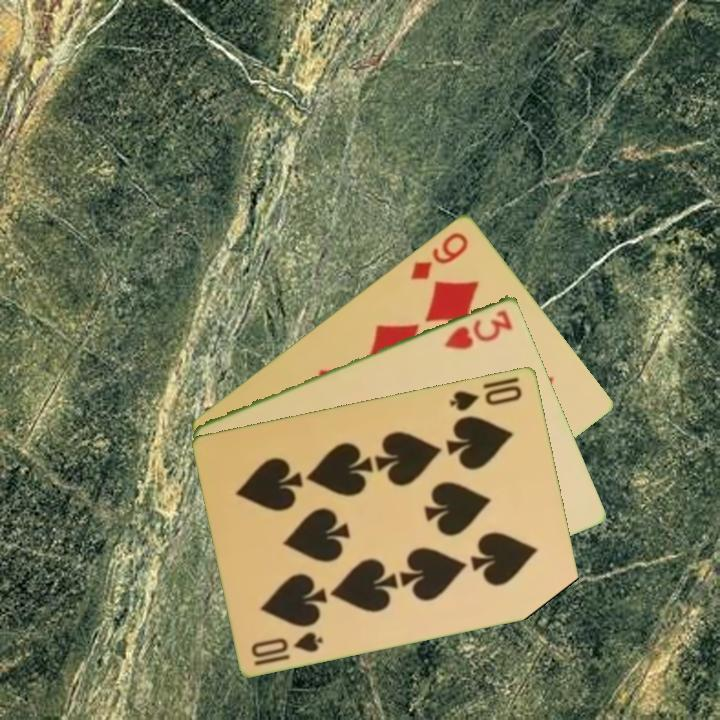10s: (248, 628, 327, 668), (446, 381, 525, 414)
3h: (440, 306, 516, 352)
9d: (407, 228, 472, 283)
